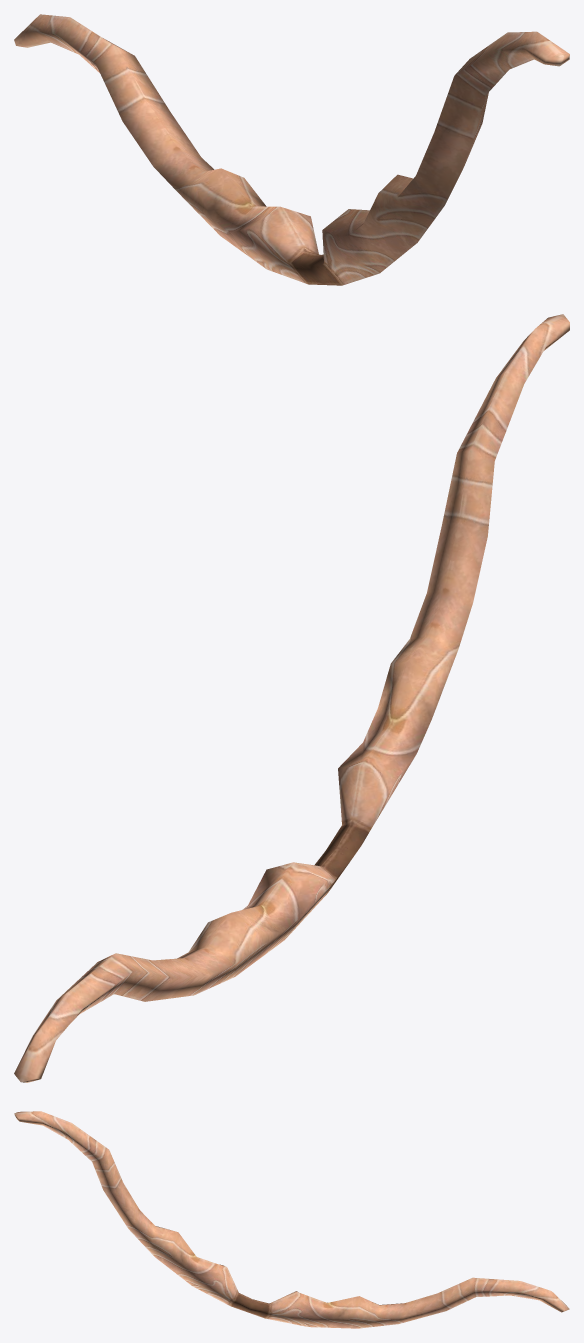
The model's file is rangedweapon-ironweapons.glb.
The picture shows the model from 3 angles, top to bottom: view 1: azimuth 30°, elevation 25°; view 2: azimuth 150°, elevation 25°; view 3: azimuth 270°, elevation 25°; orthographic projection. The views are drawn at different scales.
Bounding box in the file's own units: 0.0978 × 0.6732 × 1.55.
Materials: 1 (1 with a texture image).
